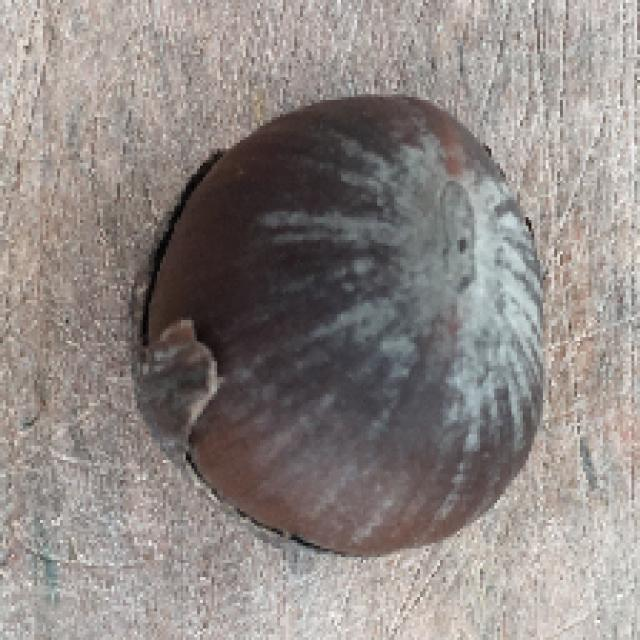DamagedHazelnut: (131, 93, 550, 555)
